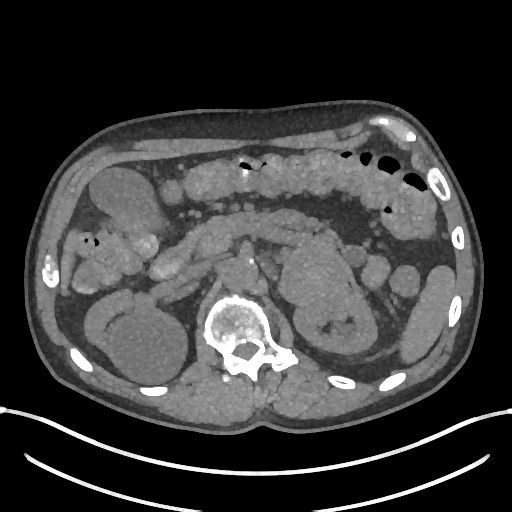Lesion: (272, 242, 360, 307)
